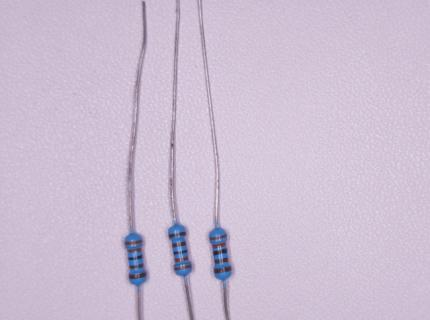Black band: (212, 248, 228, 257), (128, 255, 143, 261), (174, 249, 188, 255)
Brown band: (214, 266, 232, 275), (129, 272, 147, 280), (215, 257, 229, 265), (129, 263, 144, 270), (172, 241, 187, 248), (169, 232, 186, 238)
Orange band: (209, 234, 228, 241), (124, 240, 143, 246), (174, 265, 192, 271), (174, 256, 189, 263), (212, 242, 226, 249), (127, 248, 142, 254)
